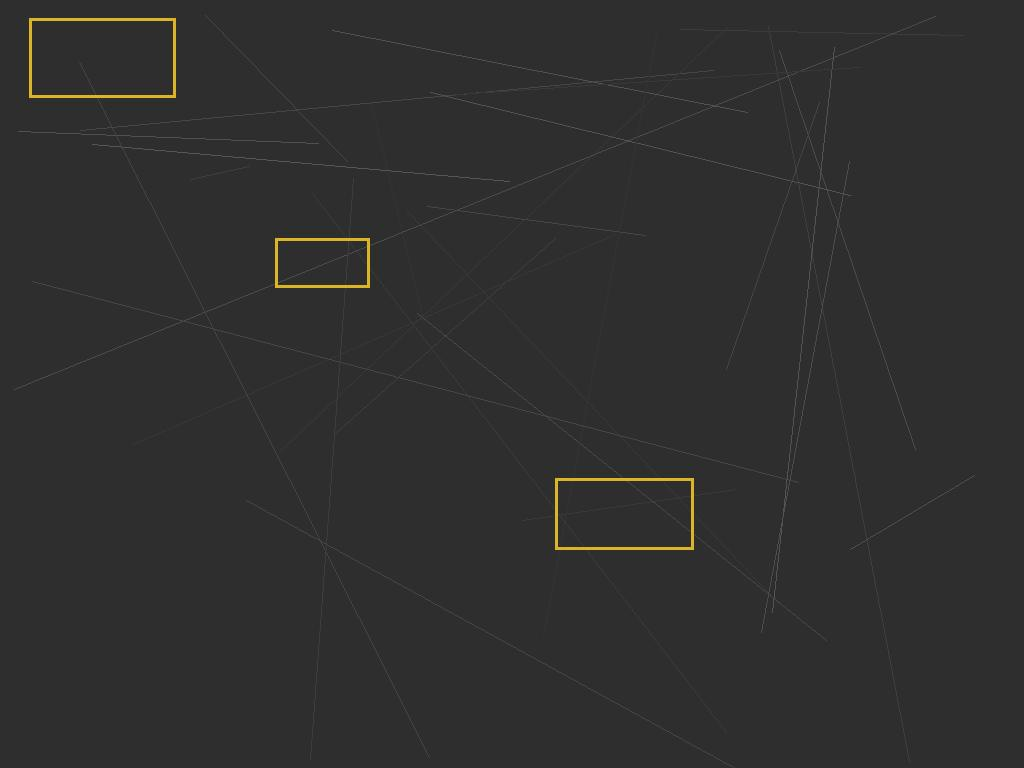D00: (29, 18, 175, 97), (555, 478, 693, 549), (275, 238, 369, 287)
